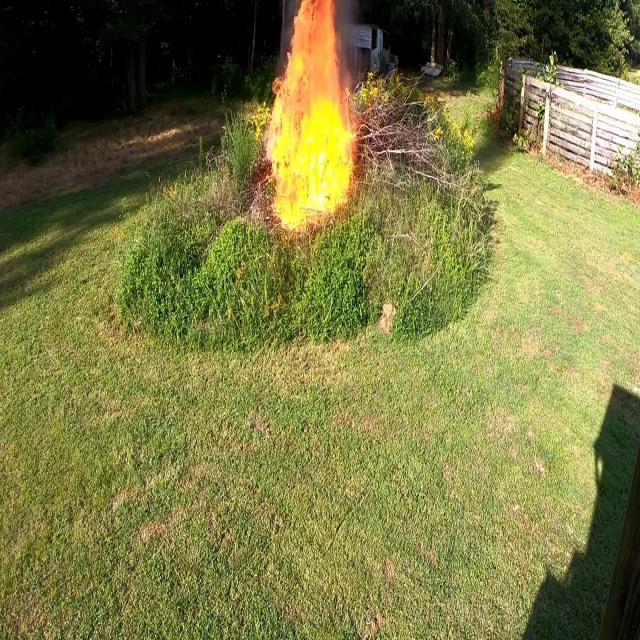Fire: (261, 0, 361, 230)
